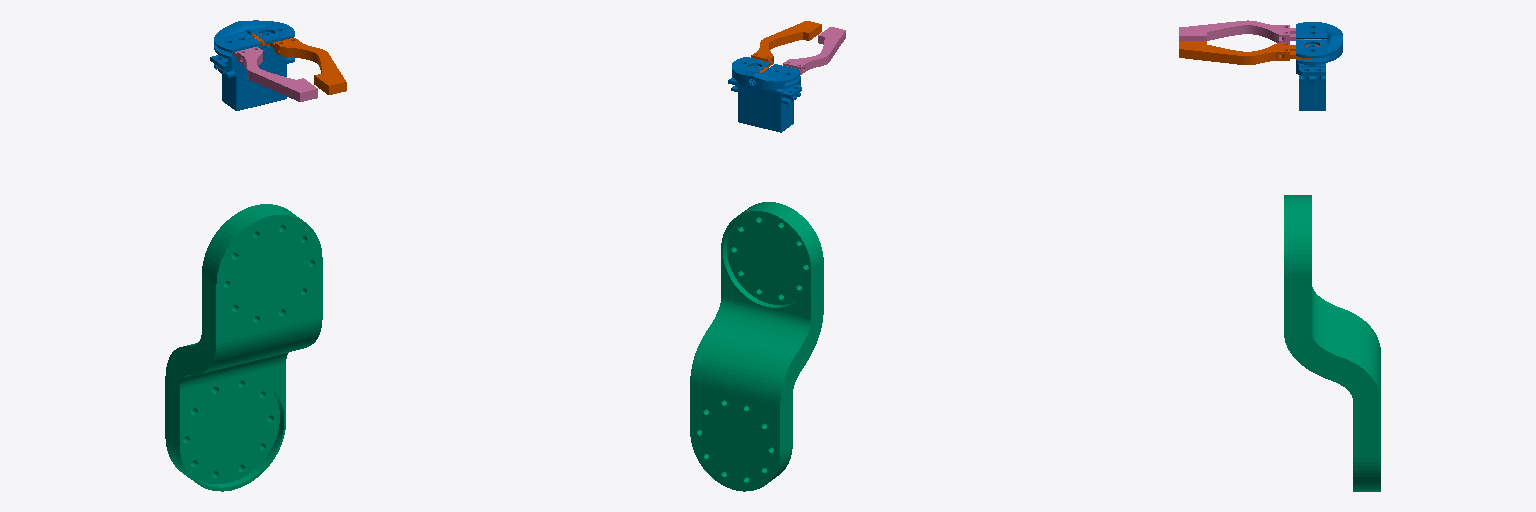
URDF robot description (robot.urdf):
<?xml version='1.0' encoding='utf-8'?>
<robot name="robot.urdf">
    <link name="world"/>

    <link name="LINK1">
        <inertial>
            <origin xyz="-0.04830359391804393 0.005149127669547608 0.09718105004407886" rpy="0.0 -0.0 0.0" />
            <mass value="5.265838892952805" />
            <inertia ixx="0.02401007834367347" iyy="0.024414501061154448" izz="0.009172976601060645" ixy="-9.479097891963717e-05" iyz="-0.004167653282909745" ixz="-0.00018599264644830749" />
        </inertial>
        <visual name="LINK1_visual">
            <origin xyz="-0.026999998322096028 -0.004049999999999834 -1.2571160823426909e-09" rpy="1.6433001500370385e-15 4.857225732735099e-15 3.1415926535897873" />
            <geometry>
                <mesh filename="package://my_robot_description/meshes/LINK1.stl" scale="0.001 0.001 0.001" />
            </geometry>
        </visual>
        <collision name="LINK1_collision">
            <origin xyz="-0.026999998322096028 -0.004049999999999834 -1.2571160823426909e-09" rpy="1.6433001500370385e-15 4.857225732735099e-15 3.1415926535897873" />
            <geometry>
                <mesh filename="package://my_robot_description/meshes/LINK1.stl" scale="0.001 0.001 0.001" />
            </geometry>
        </collision>
    </link>
    <link name="LINK2">
        <inertial>
            <origin xyz="1.28434257955945e-06 0.020884999425879604 0.07019559242333841" rpy="0.0 -0.0 0.0" />
            <mass value="2.538582859255553" />
            <inertia ixx="0.008956972318942547" iyy="0.008908177973772136" izz="0.0029496073065281014" ixy="-3.747307464330163e-10" iyz="-0.002911956443321928" ixz="2.537394738766352e-10" />
        </inertial>
        <visual name="LINK2_visual">
            <origin xyz="0.02050000167790403 0.012455000000000221 -0.1690000012571151" rpy="1.6433001500370357e-15 4.8572257327351e-15 3.141592653589787" />
            <geometry>
                <mesh filename="package://my_robot_description/meshes/LINK2.stl" scale="0.001 0.001 0.001" />
            </geometry>
        </visual>
        <collision name="LINK2_collision">
            <origin xyz="0.02050000167790403 0.012455000000000221 -0.1690000012571151" rpy="1.6433001500370357e-15 4.8572257327351e-15 3.141592653589787" />
            <geometry>
                <mesh filename="package://my_robot_description/meshes/LINK2.stl" scale="0.001 0.001 0.001" />
            </geometry>
        </collision>
    </link>
    <link name="LINK3">
        <inertial>
            <origin xyz="2.9391559479208242e-05 -0.03757274793423667 0.06243636559566291" rpy="0.0 -0.0 0.0" />
            <mass value="4.302962625568581" />
            <inertia ixx="0.019982565869231417" iyy="0.020398931834897382" izz="0.004942852941987819" ixy="-2.4801933525928077e-05" iyz="0.0009219037680591458" ixz="3.74620566434003e-05" />
        </inertial>
        <visual name="LINK3_visual">
            <origin xyz="0.020500001677904063 -0.02954499999999979 -0.30920000125711505" rpy="1.6433001500370357e-15 4.8572257327351e-15 3.141592653589787" />
            <geometry>
                <mesh filename="package://my_robot_description/meshes/LINK3.stl" scale="0.001 0.001 0.001" />
            </geometry>
        </visual>
        <collision name="LINK3_collision">
            <origin xyz="0.020500001677904063 -0.02954499999999979 -0.30920000125711505" rpy="1.6433001500370357e-15 4.8572257327351e-15 3.141592653589787" />
            <geometry>
                <mesh filename="package://my_robot_description/meshes/LINK3.stl" scale="0.001 0.001 0.001" />
            </geometry>
        </collision>
    </link>
    <link name="LINK4">
        <inertial>
            <origin xyz="-4.874750219048707e-05 -0.017032214100951366 0.0202273101716014" rpy="0.0 -0.0 0.0" />
            <mass value="0.3205561995847367" />
            <inertia ixx="8.115307114098247e-05" iyy="0.00011810717096094603" izz="7.142253004542489e-05" ixy="-1.1906747910545024e-08" iyz="6.9089755621986465e-06" ixz="-5.979095645744503e-07" />
        </inertial>
        <visual name="LINK4_visual">
            <origin xyz="0.4771916680821157 0.004690000000002002 -0.020501662680970582" rpy="6.453171330633788e-15 -1.5707963267948915 0" />
            <geometry>
                <mesh filename="package://my_robot_description/meshes/LINK4.stl" scale="0.001 0.001 0.001" />
            </geometry>
        </visual>
        <collision name="LINK4_collision">
            <origin xyz="0.4771916680821157 0.004690000000002002 -0.020501662680970582" rpy="6.453171330633788e-15 -1.5707963267948915 0" />
            <geometry>
                <mesh filename="package://my_robot_description/meshes/LINK4.stl" scale="0.001 0.001 0.001" />
            </geometry>
        </collision>
    </link>
    <link name="FINGER1">
        <inertial>
            <origin xyz="0.05267529631630866 0.0025077117409590243 0.006236835399821779" rpy="0.0 -0.0 0.0" />
            <mass value="0.059381849603004834" />
            <inertia ixx="2.8934368679810756e-06" iyy="5.535819117299338e-05" izz="5.29198433374386e-05" ixy="2.1369252102620257e-08" iyz="2.08393196504855e-09" ixz="6.514217708593546e-07" />
        </inertial>
        <visual name="FINGER1_visual">
            <origin xyz="-0.02269482313101406 -0.017951578576960402 -0.4872498034590186" rpy="9.898680036138524e-06 4.954353979954778e-15 1.5707963267948983" />
            <geometry>
                <mesh filename="package://my_robot_description/meshes/FINGER1.stl" scale="0.001 0.001 0.001" />
            </geometry>
        </visual>
        <collision name="FINGER1_collision">
            <origin xyz="-0.02269482313101406 -0.017951578576960402 -0.4872498034590186" rpy="9.898680036138524e-06 4.954353979954778e-15 1.5707963267948983" />
            <geometry>
                <mesh filename="package://my_robot_description/meshes/FINGER1.stl" scale="0.001 0.001 0.001" />
            </geometry>
        </collision>
    </link>
    <link name="FINGER2">
        <inertial>
            <origin xyz="0.052244453764083966 0.0035078027612868825 -0.007208398471791444" rpy="0.0 -0.0 0.0" />
            <mass value="0.05960289793670913" />
            <inertia ixx="2.873795479591383e-06" iyy="5.6069292661728464e-05" izz="5.365034222379081e-05" ixy="2.1974449360062287e-08" iyz="-2.5082027361066886e-09" ixz="2.4843777073100715e-07" />
        </inertial>
        <visual name="FINGER2_visual">
            <origin xyz="-0.02269462416763763 -0.016951382680970965 -0.46714981345817835" rpy="9.898680036138524e-06 4.746187163537616e-15 1.5707963267948983" />
            <geometry>
                <mesh filename="package://my_robot_description/meshes/FINGER2.stl" scale="0.001 0.001 0.001" />
            </geometry>
        </visual>
        <collision name="FINGER2_collision">
            <origin xyz="-0.02269462416763763 -0.016951382680970965 -0.46714981345817835" rpy="9.898680036138524e-06 4.746187163537616e-15 1.5707963267948983" />
            <geometry>
                <mesh filename="package://my_robot_description/meshes/FINGER2.stl" scale="0.001 0.001 0.001" />
            </geometry>
        </collision>
    </link>
    <link name="BASE">
        <inertial>
            <origin xyz="0.02067566468050034 -0.004607587318377771 -0.0596784900575902" rpy="0.0 0.0 0.0" />
            <mass value="12.0841978796235" />
            <inertia ixx="0.1375350733167496" iyy="0.0825234698916146" izz="0.1371542634184954" ixy="0.00013962510635832012" iyz="-0.026951157798307597" ixz="-1.8729999410066328e-05" />
        </inertial>
        <visual name="BASE_visual">
            <origin xyz="0.0 0.0 0.0" rpy="0.0 0.0 0.0" />
            <geometry>
                <mesh filename="package://my_robot_description/meshes/BASE.stl" scale="0.001 0.001 0.001" />
            </geometry>
        </visual>
        <collision name="BASE_collision">
            <origin xyz="0.0 0.0 0.0" rpy="0.0 0.0 0.0" />
            <geometry>
                <mesh filename="package://my_robot_description/meshes/BASE.stl" scale="0.001 0.001 0.001" />
            </geometry>
        </collision>
    </link>
    <joint name="world_to_base" type="fixed">
    <parent link="world"/>
    <child link="BASE"/>

    <!-- Lift robot so gripper clears ground -->
    <origin xyz="0 0 0.15" rpy="0 0 0"/>
    </joint>

    <joint name="BASE_Slider-1" type="prismatic">
        <origin xyz="-0.026999998322096017 -4.9999999999990055e-05 1.2571158691798702e-09" rpy="1.64330015003707e-15 4.85722573273509e-15 -3.141592653589787" />
        <parent link="BASE" />
        <child link="LINK1" />
        <axis xyz="-3.0272303252824716e-31 -1.0 0.0" />
        <limit lower="0.0" upper="0.183" effort="1000000" velocity="1000000" />
    </joint>
    <joint name="LINK1_Revolute-2" type="revolute">
        <origin xyz="-0.0475 -0.01650500000000001 0.16899999999999998" rpy="0.0 -0.0 -1.7519150705609537e-31" />
        <parent link="LINK1" />
        <child link="LINK2" />
        <axis xyz="-1.275315254721518e-31 -1.0 0.0" />
        <limit lower="-1.570796" upper="1.570796" effort="1000000" velocity="1000000" />
    </joint>
    <joint name="LINK2_Revolute-3" type="revolute">
        <origin xyz="0.0 0.04200000000000001 0.14020000000000005" rpy="0.0 -0.0 -2.829915217567697e-31" />
        <parent link="LINK2" />
        <child link="LINK3" />
        <axis xyz="1.554599962846179e-31 -1.0 0.0" />
        <limit lower="-1.570796" upper="1.570796" effort="1000000" velocity="1000000" />
    </joint>
    <joint name="LINK3_Revolute-4" type="revolute">
        <origin xyz="2.4900000000016575e-06 -0.024605000000000005 0.1679999999999999" rpy="3.141592653589793 -0.0 -2.2235236517098263e-31" />
        <parent link="LINK3" />
        <child link="LINK4" />
        <axis xyz="-3.7781236145560054e-31 -1.0 0.0" />
        <limit lower="0.0" upper="6.283185" effort="1000000" velocity="1000000" />
    </joint>
    <joint name="LINK4_Revolute-5" type="revolute">
        <origin xyz="-0.010058360000000004 -0.018 -0.002549900000000065" rpy="1.5707963267948966 -0.0 -1.5708062254749262" />
        <parent link="LINK4" />
        <child link="FINGER1" />
        <axis xyz="9.898680029523703e-11 -1.0 9.999999999510082e-06" />
        <limit lower="0.0" upper="0.785398" effort="1000000" velocity="1000000" />
    </joint>
    <joint name="LINK4_Revolute-6" type="revolute">
        <origin xyz="0.010041630000000001 -0.018 -0.0035502800000000436" rpy="1.5707963267948966 -0.0 -1.5708062254749262" />
        <parent link="LINK4" />
        <child link="FINGER2" />
        <axis xyz="9.898680029523703e-11 -1.0 9.999999999510082e-06" />
        <limit lower="-0.785398" upper="0.139626" effort="1000000" velocity="1000000" />
    </joint>
</robot>

--- Render facts (derived) ---
3 views of the same robot in one strip: view 1: azimuth 30°, elevation 25°; view 2: azimuth 150°, elevation 25°; view 3: azimuth 270°, elevation 25° (orthographic).
Robot: robot.urdf — 8 links, 7 joints (5 revolute, 1 prismatic, 1 fixed); root link world; default pose: every joint at zero.
Links seen in each view (by area): view 1: LINK2, LINK4, FINGER1, FINGER2; view 2: LINK2, LINK4, FINGER1, FINGER2; view 3: LINK2, LINK4, FINGER1, FINGER2.
Boxes of the visible links, x1,y1,x2,y2 form: LINK2: (165, 204, 322, 491); LINK4: (210, 20, 294, 110); FINGER1: (252, 33, 346, 94); FINGER2: (229, 38, 317, 101); LINK2: (690, 202, 823, 491); LINK4: (728, 57, 801, 132); FINGER1: (749, 21, 821, 73); FINGER2: (783, 27, 845, 74); LINK2: (1284, 195, 1380, 491); LINK4: (1296, 22, 1342, 110); FINGER1: (1179, 41, 1318, 64); FINGER2: (1179, 20, 1326, 42).
Size in the robot's own frame: 0.084 by 0.1455 by 0.3578 metres.
Meshes: 7 distinct files referenced, 4 mesh visuals loaded (4 binary STL); not drawn: 3 (reference not matched to a file when rendering).
